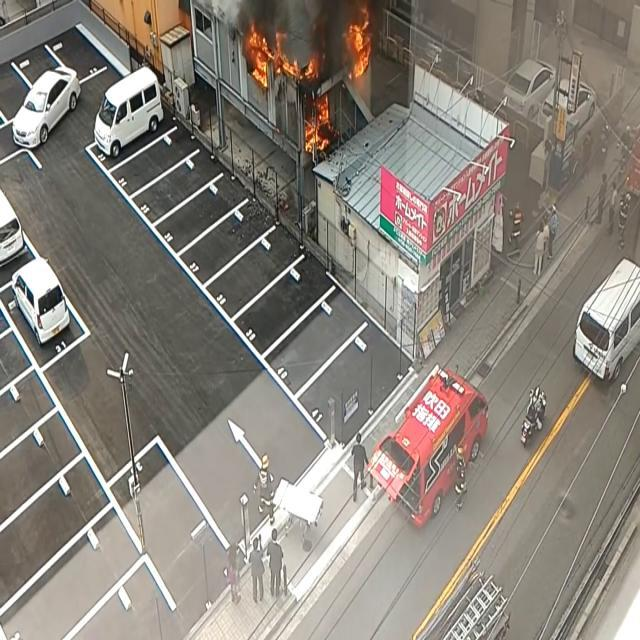Fire: (242, 20, 316, 89), (344, 3, 376, 88), (304, 85, 332, 157)
